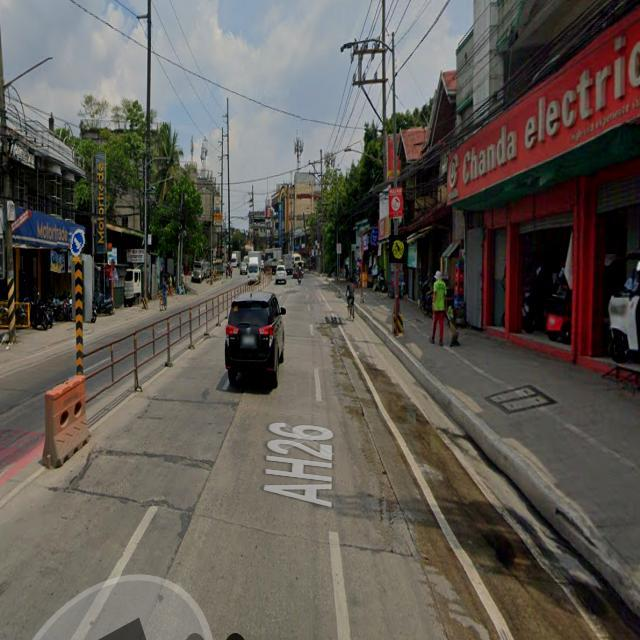bike lane: (389, 235, 407, 263)
keep right: (70, 227, 87, 261)
